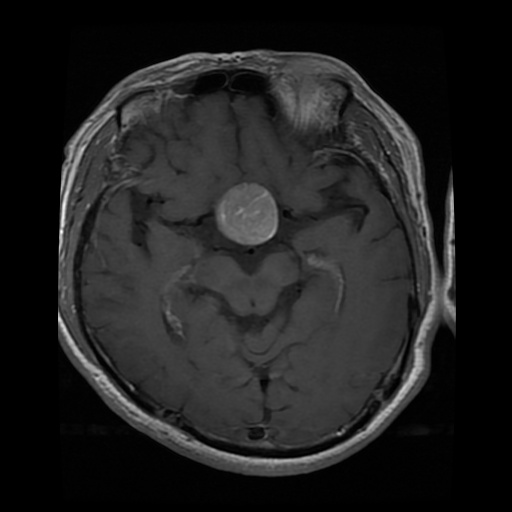pituitary: (218, 182, 279, 246)
